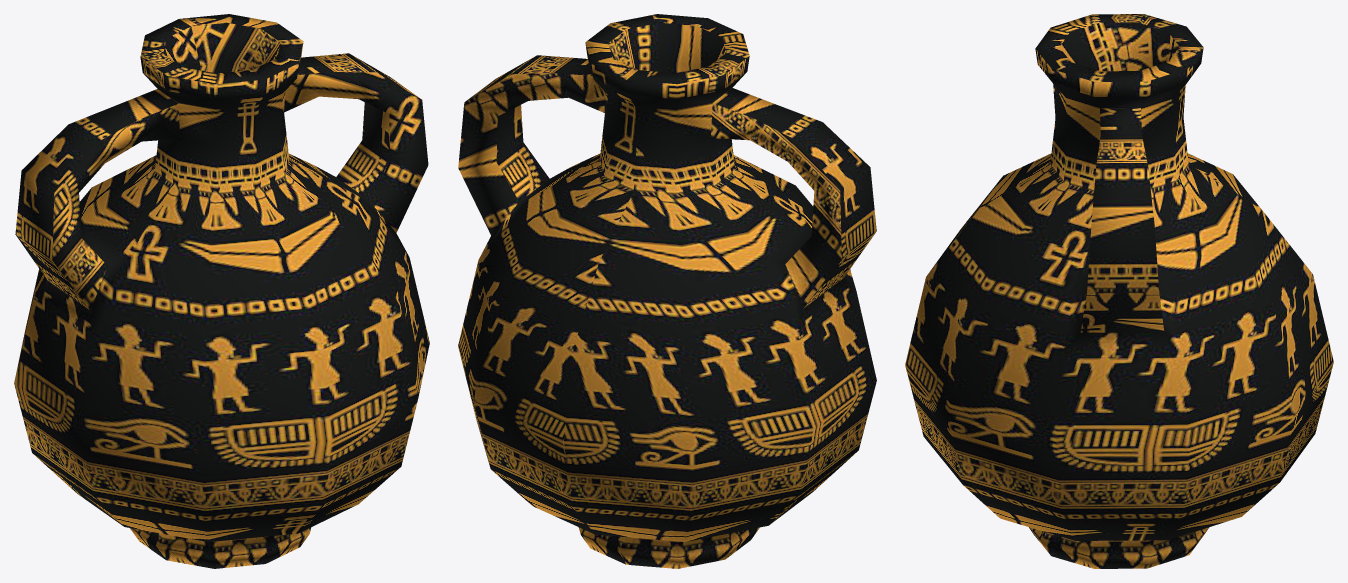
File: vase1.fbx
The picture shows the model from 3 angles, left to right: view 1: azimuth 30°, elevation 25°; view 2: azimuth 150°, elevation 25°; view 3: azimuth 270°, elevation 25°; orthographic projection.
Parts seen in each view (by area): view 1: Pot_Wine; view 2: Pot_Wine; view 3: Pot_Wine.
Boxes of the visible parts, <box> form: Pot_Wine: <box>14,14,429,568</box>; Pot_Wine: <box>458,14,876,568</box>; Pot_Wine: <box>905,14,1333,568</box>.
Bounding box in the file's own units: 38.87 × 47.32 × 37.71.
